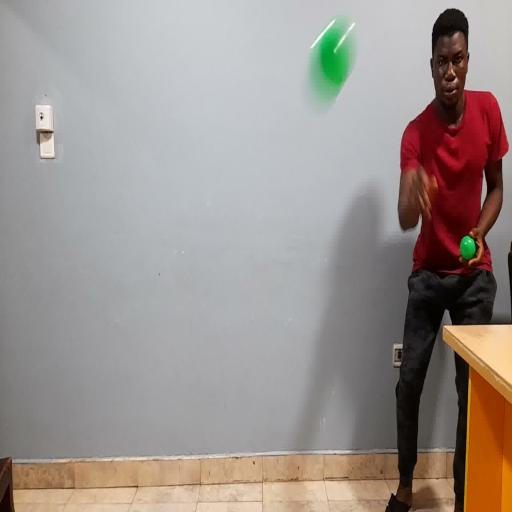plastic-ball: (301, 15, 359, 121)
